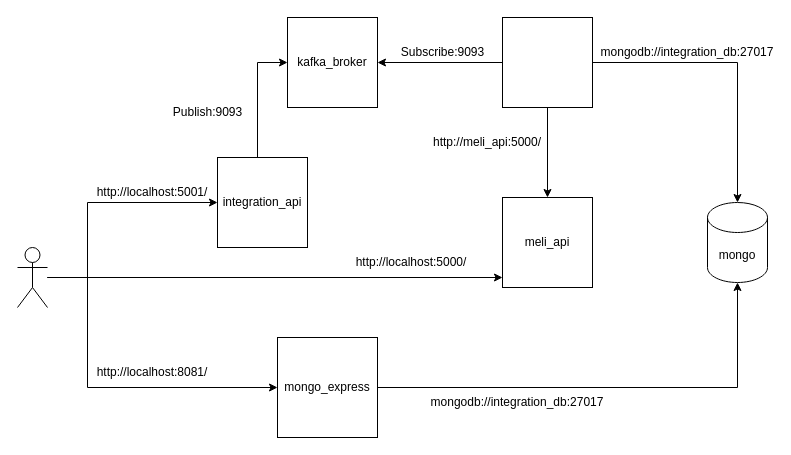
This 791x455 diagram has some shape labels left out. The box of each missing label's shape, as (x1, y1, x2, y2) in pixels:
Actor: (16, 246, 48, 308)
consumer_api: (502, 16, 592, 108)
